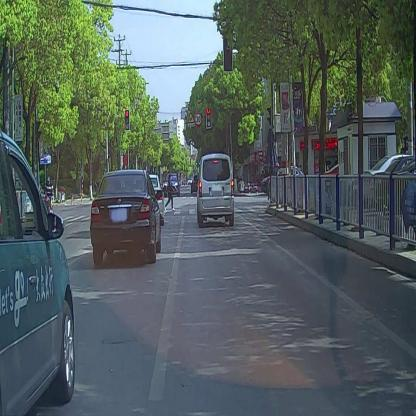Red Light: (206, 104, 212, 128), (125, 108, 130, 131)
